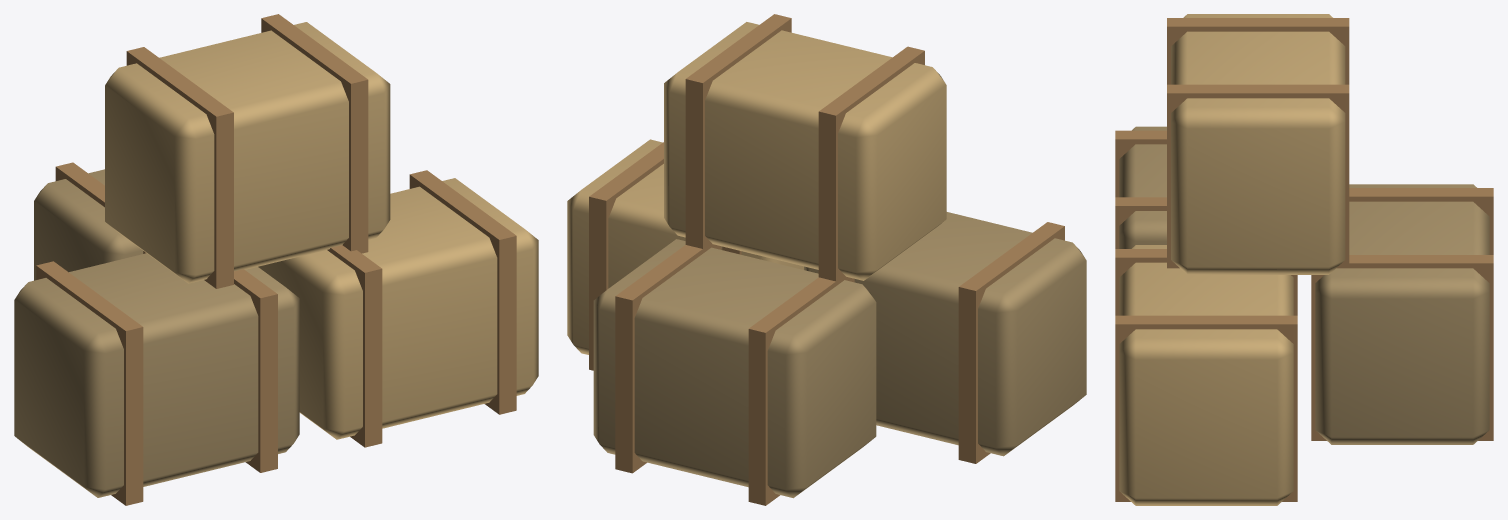
File: hay_bales.glb
3 views of the same model, side by side, from view 1: azimuth 30°, elevation 25°; view 2: azimuth 150°, elevation 25°; view 3: azimuth 270°, elevation 25° (orthographic). The views are drawn at different scales.
Parts seen in each view (by area): view 1: Hay_bale.003, Hay_bale, Hay_bale.001, Hay_bale.002, Hay_bale_binding, Hay_bale_binding.003, Hay_bale_binding.006, Hay_bale_binding.007, Hay_bale_binding.002, Hay_bale_binding.001, Hay_bale_binding.004; view 2: Hay_bale.002, Hay_bale.003, Hay_bale, Hay_bale.001, Hay_bale_binding, Hay_bale_binding.006, Hay_bale_binding.007, Hay_bale_binding.005, Hay_bale_binding.004, Hay_bale_binding.003; view 3: Hay_bale.003, Hay_bale.002, Hay_bale.001, Hay_bale_binding.003, Hay_bale_binding.007, Hay_bale, Hay_bale_binding.005, Hay_bale_binding.006, Hay_bale_binding.004, Hay_bale_binding.002, Hay_bale_binding, Hay_bale_binding.001.
Part boxes in pixels (x1=…): Hay_bale.003: x1=105, y1=22, x2=390, y2=283; Hay_bale: x1=14, y1=253, x2=299, y2=497; Hay_bale.001: x1=258, y1=178, x2=538, y2=439; Hay_bale.002: x1=34, y1=169, x2=143, y2=280; Hay_bale_binding: x1=36, y1=261, x2=143, y2=505; Hay_bale_binding.003: x1=409, y1=170, x2=516, y2=414; Hay_bale_binding.006: x1=126, y1=47, x2=233, y2=288; Hay_bale_binding.007: x1=261, y1=14, x2=368, y2=253; Hay_bale_binding.002: x1=327, y1=245, x2=382, y2=447; Hay_bale_binding.001: x1=234, y1=269, x2=277, y2=472; Hay_bale_binding.004: x1=55, y1=162, x2=146, y2=253; Hay_bale.002: x1=593, y1=239, x2=876, y2=498; Hay_bale.003: x1=664, y1=22, x2=946, y2=280; Hay_bale: x1=804, y1=212, x2=1086, y2=456; Hay_bale.001: x1=567, y1=139, x2=803, y2=354; Hay_bale_binding: x1=958, y1=222, x2=1064, y2=463; Hay_bale_binding.006: x1=818, y1=46, x2=924, y2=285; Hay_bale_binding.007: x1=685, y1=14, x2=791, y2=248; Hay_bale_binding.005: x1=615, y1=243, x2=721, y2=473; Hay_bale_binding.004: x1=748, y1=277, x2=854, y2=505; Hay_bale_binding.003: x1=589, y1=142, x2=663, y2=370; Hay_bale.003: x1=1171, y1=14, x2=1345, y2=274; Hay_bale.002: x1=1315, y1=184, x2=1489, y2=444; Hay_bale.001: x1=1119, y1=245, x2=1293, y2=505; Hay_bale_binding.003: x1=1115, y1=315, x2=1297, y2=501; Hay_bale_binding.007: x1=1167, y1=84, x2=1349, y2=268; Hay_bale: x1=1119, y1=126, x2=1166, y2=248; Hay_bale_binding.005: x1=1311, y1=255, x2=1493, y2=440; Hay_bale_binding.006: x1=1167, y1=18, x2=1349, y2=84; Hay_bale_binding.004: x1=1349, y1=188, x2=1493, y2=254; Hay_bale_binding.002: x1=1115, y1=249, x2=1297, y2=315; Hay_bale_binding: x1=1115, y1=130, x2=1166, y2=197; Hay_bale_binding.001: x1=1115, y1=197, x2=1166, y2=248.
Size of the model in its own units: 1.96 by 1.41 by 1.39.
